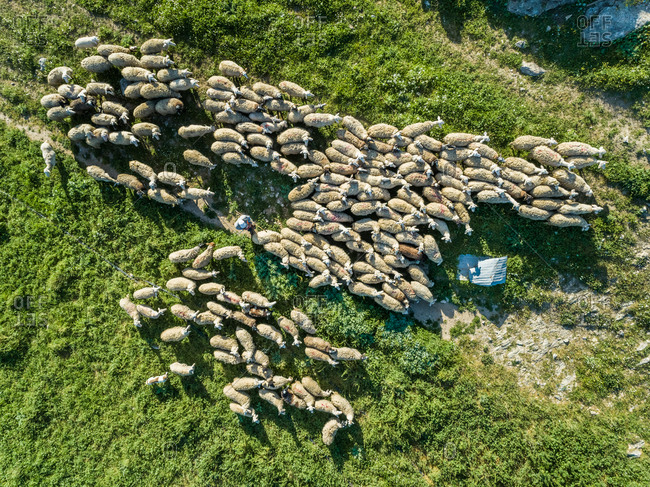sheep: (551, 168, 596, 197), (504, 153, 550, 178), (477, 186, 521, 210), (509, 134, 561, 153), (275, 313, 304, 347), (182, 147, 220, 172), (557, 140, 609, 158), (259, 387, 292, 415), (375, 287, 408, 314), (279, 74, 313, 100), (332, 137, 367, 162), (398, 186, 430, 213), (379, 215, 420, 236), (436, 156, 469, 182), (332, 390, 355, 427), (403, 117, 447, 136), (130, 158, 158, 187), (470, 140, 505, 163), (389, 196, 424, 219), (216, 123, 248, 148), (444, 131, 494, 147), (532, 185, 579, 202), (241, 290, 277, 312), (257, 322, 286, 349), (303, 334, 337, 357), (288, 178, 322, 201), (325, 144, 359, 167), (550, 214, 591, 233), (301, 241, 332, 266), (294, 381, 317, 414), (346, 112, 372, 141), (86, 165, 117, 189), (213, 243, 248, 264), (264, 242, 291, 269), (426, 202, 459, 224), (224, 383, 253, 408), (303, 374, 332, 399), (330, 243, 354, 273), (39, 139, 57, 178), (101, 99, 130, 123), (422, 234, 443, 267), (306, 346, 336, 369), (180, 186, 218, 204), (223, 152, 259, 171), (277, 127, 315, 145), (281, 226, 312, 248), (447, 188, 478, 210), (559, 201, 604, 216), (120, 297, 141, 329), (372, 230, 400, 254), (305, 232, 334, 255), (150, 186, 179, 209), (232, 375, 269, 393), (169, 244, 202, 264), (251, 144, 284, 164), (569, 156, 610, 172), (406, 263, 434, 286), (432, 217, 455, 245), (331, 346, 364, 365), (395, 161, 434, 177), (412, 279, 436, 305), (136, 300, 167, 320), (323, 417, 343, 448), (79, 56, 110, 76), (302, 113, 343, 128), (368, 123, 402, 141), (211, 333, 240, 354), (109, 129, 138, 150), (119, 170, 143, 195), (308, 272, 341, 290), (289, 103, 326, 119), (216, 58, 247, 77), (159, 170, 187, 191), (210, 75, 239, 95), (200, 97, 234, 114), (141, 38, 177, 54), (166, 278, 196, 297), (359, 271, 397, 286), (177, 123, 215, 138), (349, 280, 382, 297), (254, 80, 285, 98), (195, 310, 224, 329), (290, 256, 315, 278), (156, 66, 195, 80), (159, 326, 191, 343), (230, 403, 257, 423), (110, 52, 140, 70), (141, 53, 177, 68), (46, 66, 74, 85), (132, 286, 163, 303), (45, 106, 76, 123), (521, 204, 552, 221), (194, 240, 212, 269), (170, 360, 196, 380), (315, 399, 341, 419), (168, 76, 202, 91), (277, 142, 311, 157), (86, 82, 114, 100), (158, 99, 183, 119), (212, 141, 243, 157), (87, 127, 107, 151), (321, 171, 351, 187), (266, 100, 300, 114), (352, 202, 388, 215), (90, 114, 119, 130), (131, 124, 161, 139), (352, 220, 382, 235), (213, 350, 241, 366), (71, 36, 100, 51), (248, 133, 275, 149), (145, 373, 170, 390), (67, 124, 91, 141), (236, 97, 263, 112), (198, 281, 226, 295), (252, 110, 280, 124), (39, 93, 65, 107), (327, 200, 361, 210), (294, 210, 322, 222)
